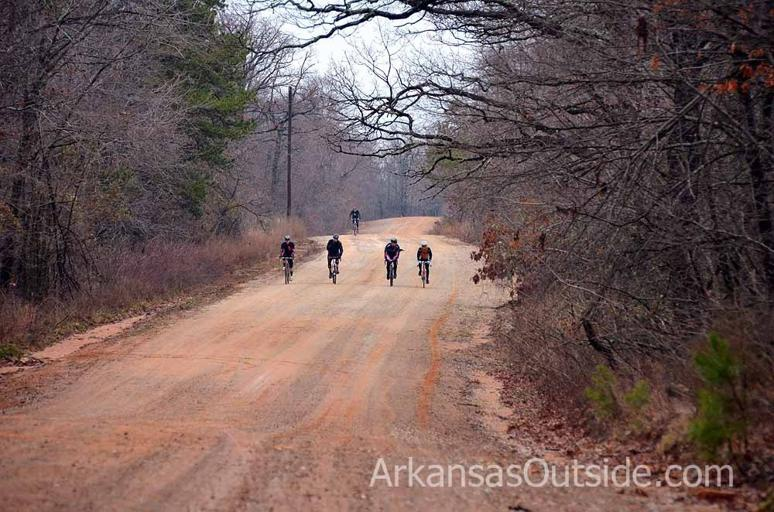non-vehicle: (416, 259, 432, 287), (385, 256, 397, 286), (279, 256, 292, 283), (328, 256, 339, 282), (351, 218, 359, 235)
